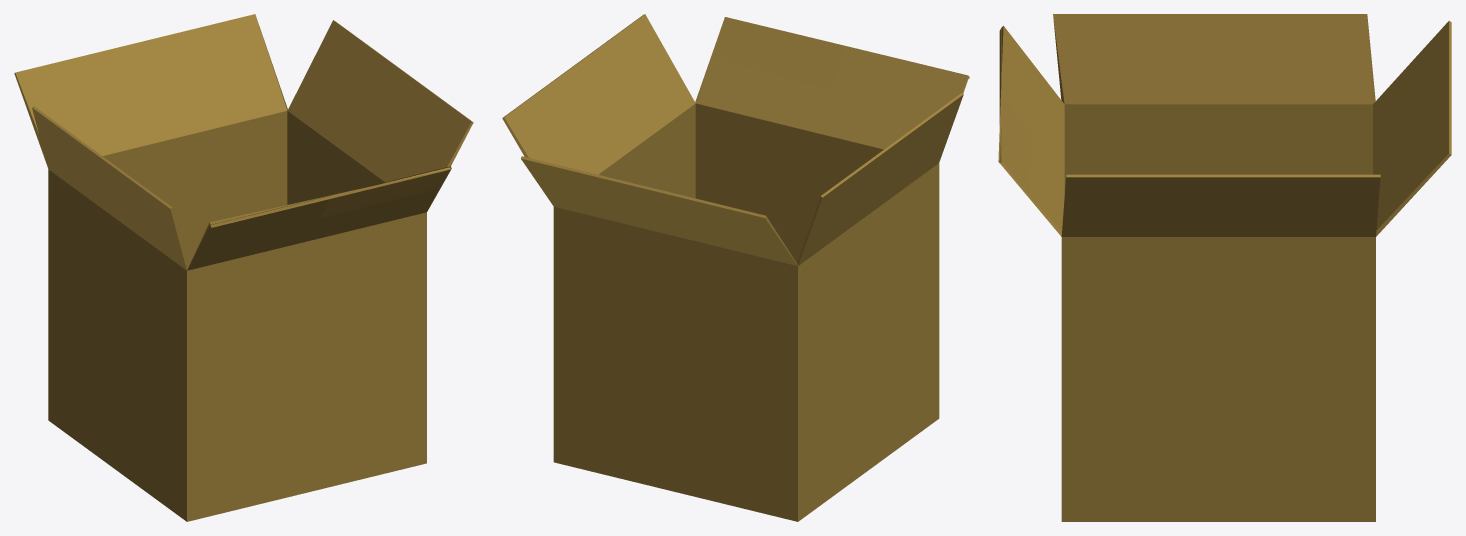
Rendered from BoxOpenEmpty.fbx.
3 views of the same model, side by side, from view 1: azimuth 30°, elevation 25°; view 2: azimuth 150°, elevation 25°; view 3: azimuth 270°, elevation 25° (orthographic). The views are drawn at different scales.
Parts seen in each view (by area): view 1: Куб; view 2: Куб; view 3: Куб.
Part boxes in pixels (<box>): Куб: <box>14,14,473,521</box>; Куб: <box>502,14,969,521</box>; Куб: <box>998,14,1451,521</box>.
Bounding box in the file's own units: 258 × 262 × 288.
